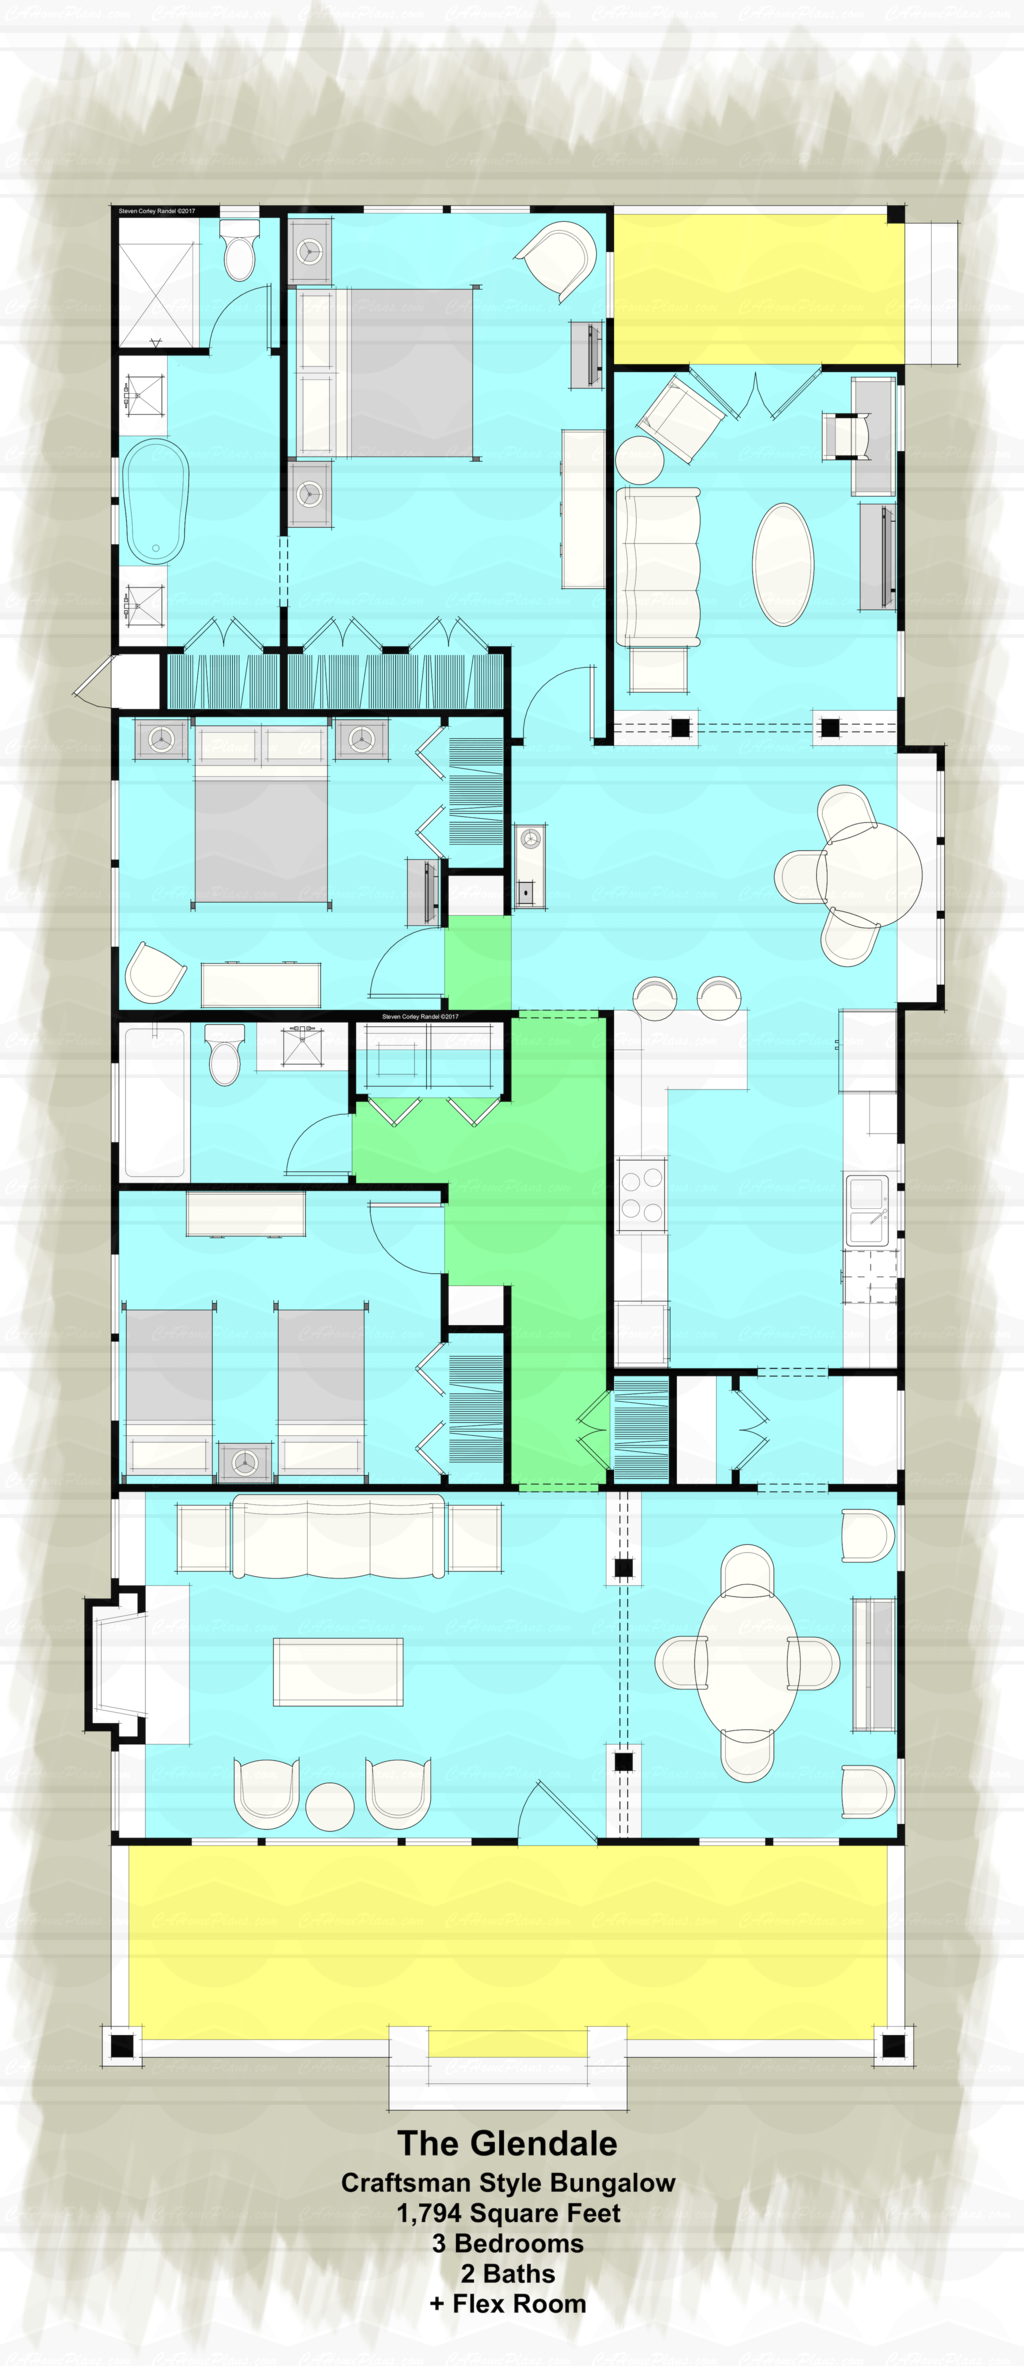bed: (291, 284, 498, 471), (184, 708, 347, 910), (271, 1305, 382, 1485), (128, 1283, 219, 1495)
dining_table: (647, 1532, 837, 1797)
door: (694, 321, 832, 432), (347, 1166, 469, 1274), (397, 579, 520, 673), (363, 914, 474, 1006), (210, 266, 291, 385), (514, 650, 602, 760), (264, 1100, 374, 1185), (284, 579, 385, 665), (715, 1378, 781, 1473), (189, 601, 288, 653)
large_sink: (189, 189, 284, 296), (196, 994, 268, 1095)
large_sofa: (235, 1480, 452, 1595), (615, 483, 706, 662)
round_table: (771, 757, 927, 994)
small_sofa: (193, 1735, 314, 1845), (348, 1750, 469, 1845)
tub: (118, 1019, 198, 1183)
twin_sink: (820, 1148, 912, 1254)
